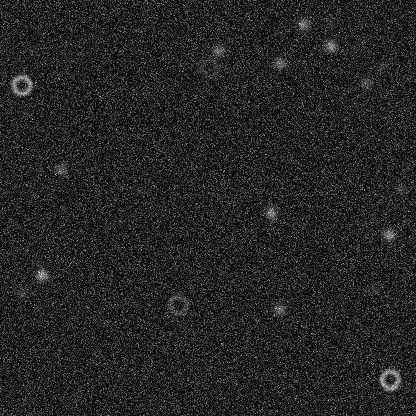Ring: (377, 367, 401, 391), (197, 55, 221, 79), (166, 292, 190, 316), (9, 73, 33, 97)
Spot: (13, 285, 29, 301), (365, 279, 381, 295), (392, 180, 408, 196), (320, 12, 336, 28), (358, 74, 374, 90), (295, 15, 311, 31), (271, 301, 287, 317), (271, 54, 287, 70), (210, 42, 226, 58), (380, 226, 396, 242), (322, 37, 338, 53), (33, 266, 49, 282), (262, 205, 278, 221), (373, 58, 389, 74), (52, 161, 68, 177)
